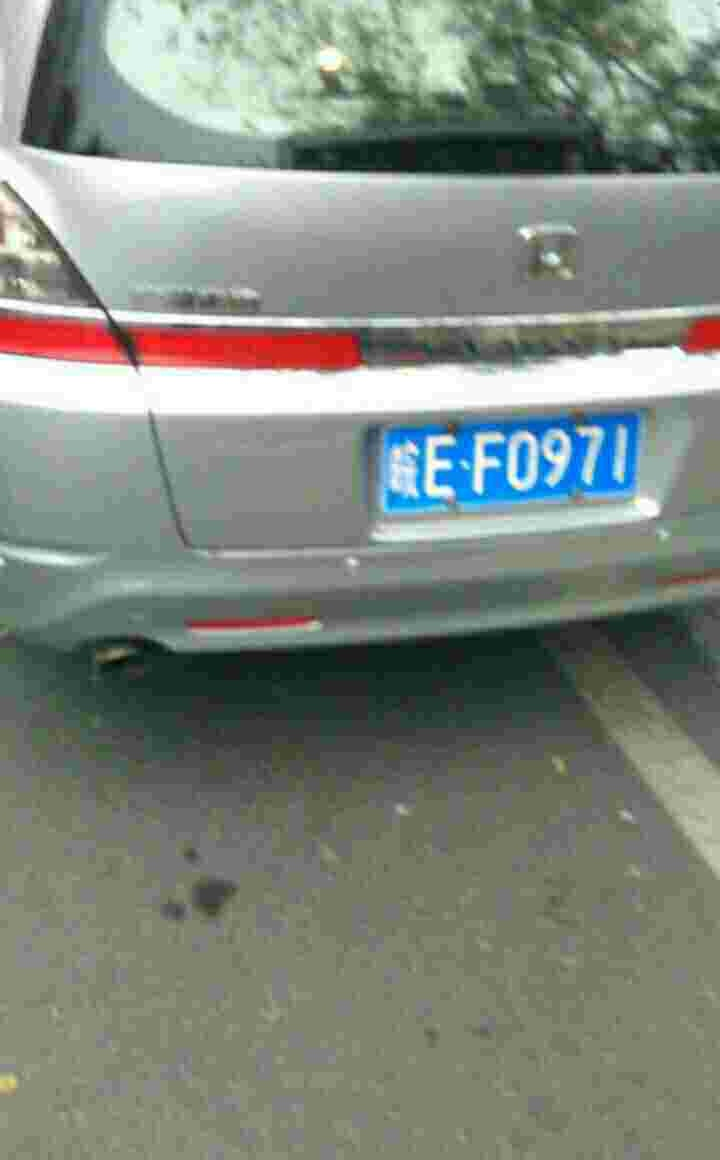license_plate: (390, 421, 651, 514)
